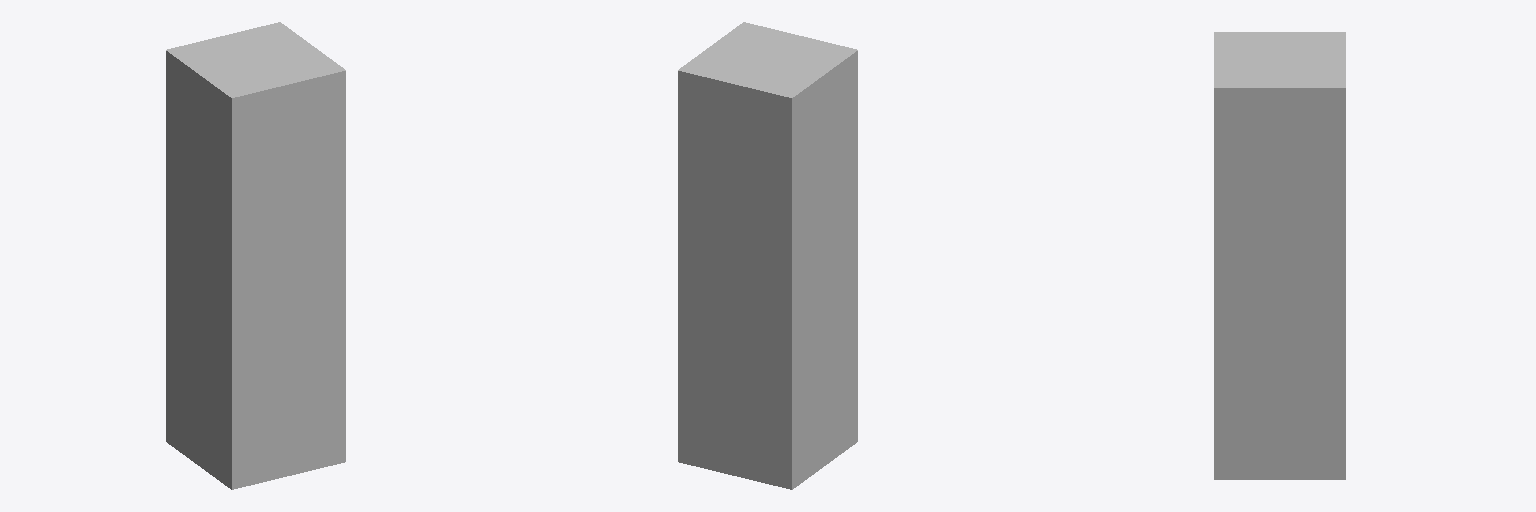
Rendered from AnimTestN.obj.
3 renders of one model, left to right at view 1: azimuth 30°, elevation 25°; view 2: azimuth 150°, elevation 25°; view 3: azimuth 270°, elevation 25°, orthographic.
Parts seen in each view (by area): view 1: Cube; view 2: Cube; view 3: Cube.
Part boxes in pixels (left/top/right/bottom): Cube: left=166, top=22, right=345, bottom=489; Cube: left=678, top=22, right=857, bottom=489; Cube: left=1214, top=32, right=1345, bottom=479.
Bounding box in the file's own units: 2 × 6.52 × 2.